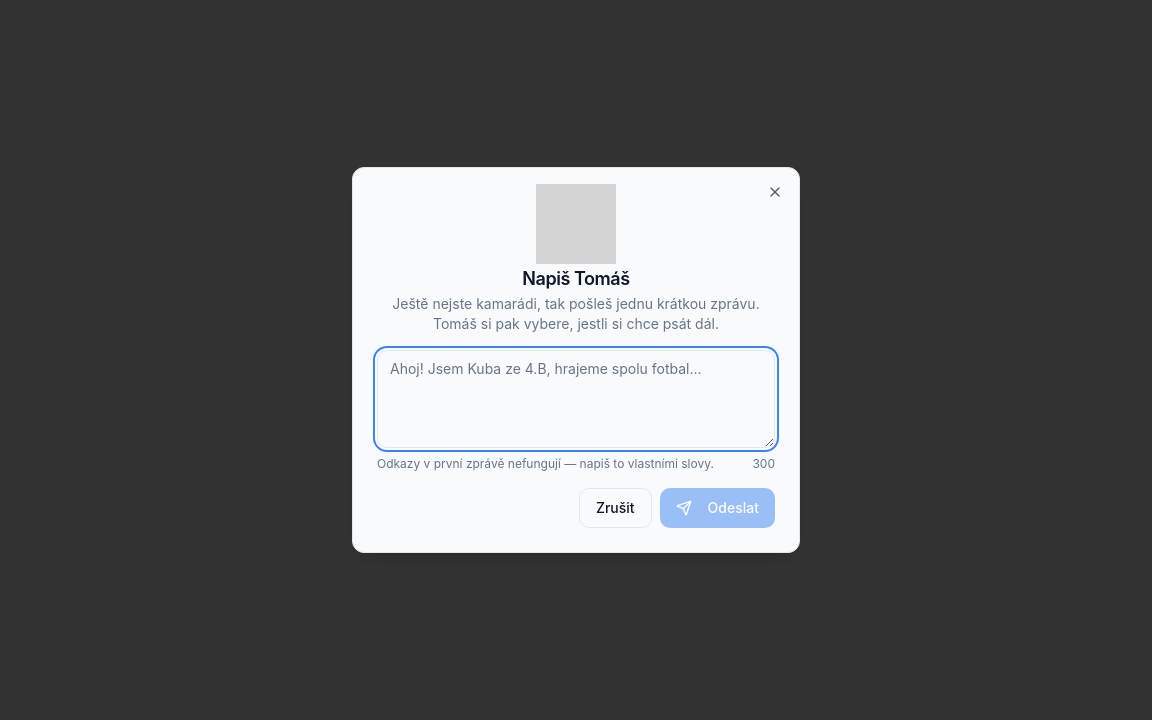
MessageRequestDialog › odešle běžnou zprávu bez mezer navíc
The width and height of the screenshot is (1152, 720).
Later steps or results of the test are not shown.
Type "  Ahoj, jsem Kuba ze 4.B  " into the text box at (576, 399), box left=377, top=350, right=775, bottom=448
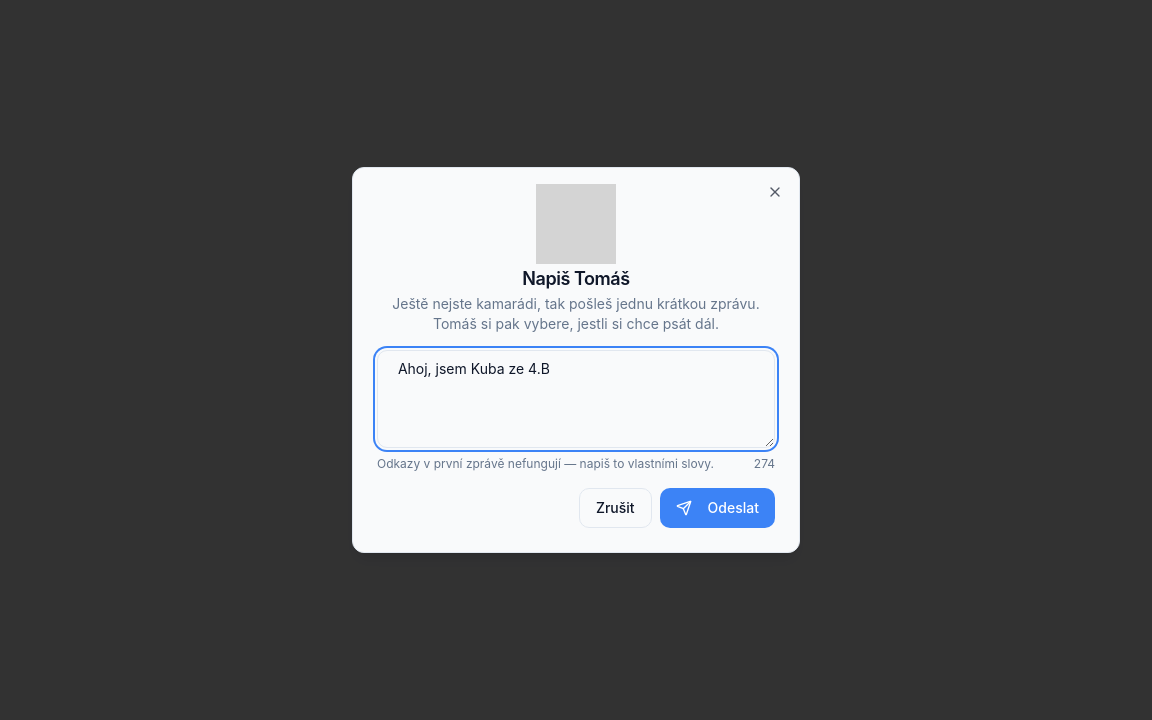
Check: the button "Odeslat" is enabled, box left=660, top=488, right=775, bottom=528
